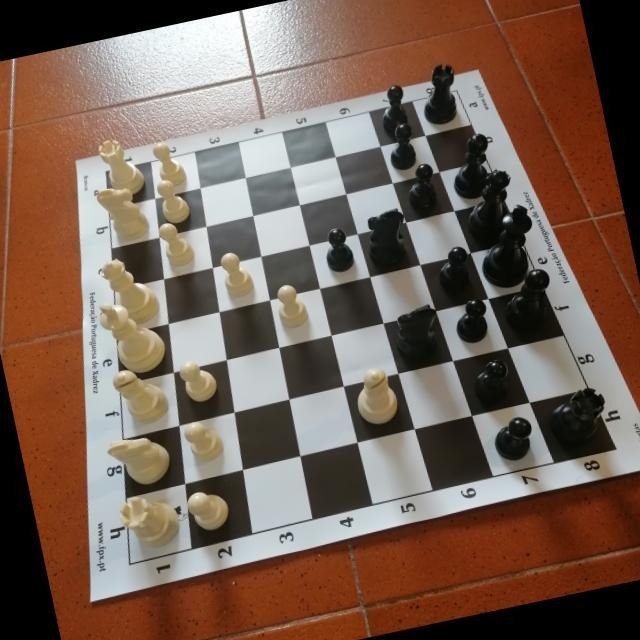black-bishop: (495, 265, 561, 339), (443, 130, 500, 202)
black-king: (470, 201, 546, 293)
black-pawn: (489, 413, 538, 465), (467, 356, 514, 408), (450, 295, 494, 347), (433, 242, 475, 295), (402, 160, 442, 214), (382, 120, 421, 172), (319, 225, 357, 275), (375, 82, 411, 134)
black-queen: (456, 164, 524, 247)
black-rook: (543, 382, 613, 451), (413, 60, 465, 128), (388, 301, 445, 363), (361, 205, 413, 267)
white-bishop: (109, 361, 172, 430), (349, 363, 402, 428)
white-king: (94, 290, 170, 380)
white-knight: (103, 429, 174, 491), (94, 180, 152, 246)
white-pawn: (183, 485, 232, 534), (181, 415, 227, 465), (176, 355, 220, 405), (155, 218, 196, 270), (149, 137, 188, 190), (216, 248, 255, 300), (155, 174, 193, 226), (271, 280, 310, 330)
white-queen: (97, 249, 163, 330)
white-rook: (114, 487, 184, 555), (96, 134, 148, 200)
